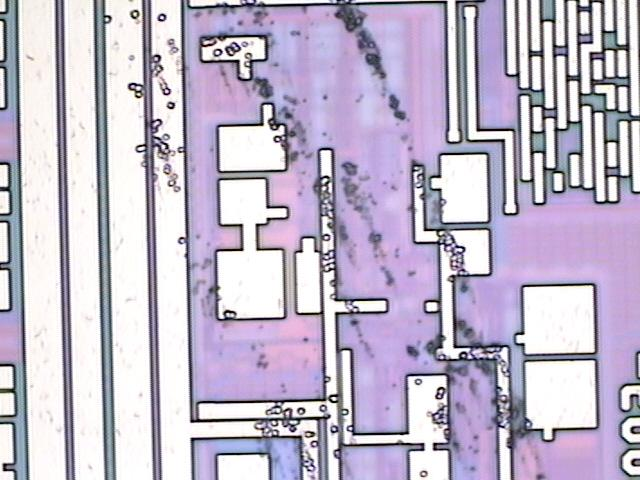PO CONTAMINATION: (96, 1, 551, 480)
